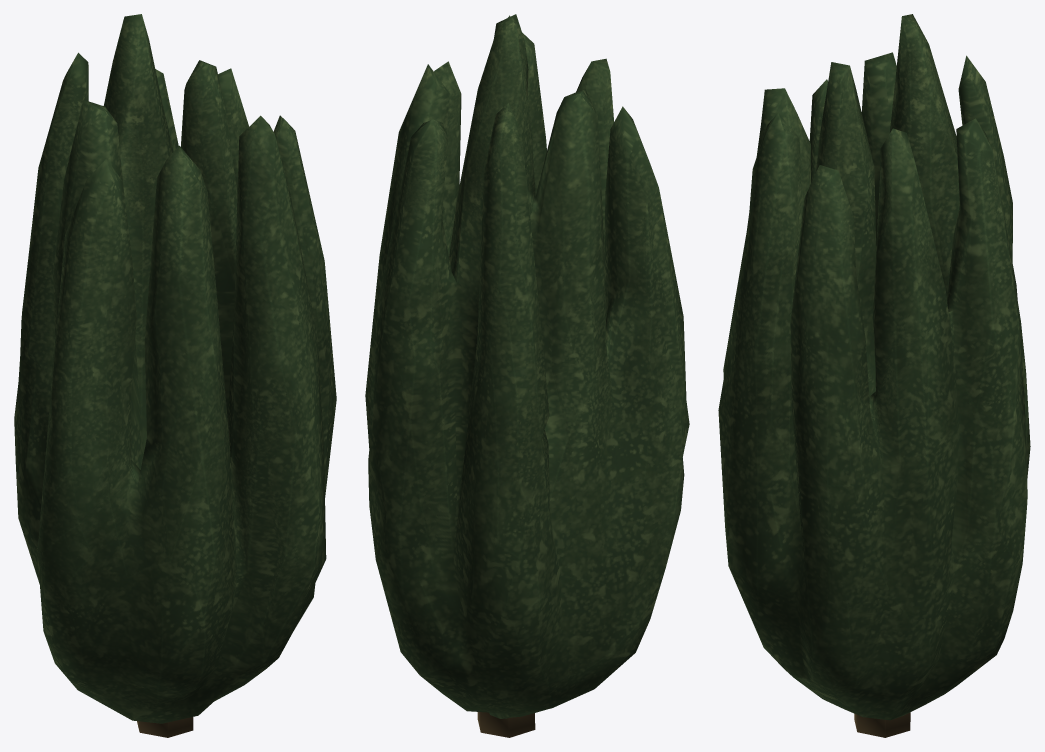
The model's file is tree-yew-GB.fbx.
3 views of the same model, side by side, from view 1: azimuth 30°, elevation 25°; view 2: azimuth 150°, elevation 25°; view 3: azimuth 270°, elevation 25° (orthographic). The views are drawn at different scales.
Visible parts, largest first — view 1: YewTree_Mesh; view 2: YewTree_Mesh; view 3: YewTree_Mesh.
Boxes of the visible parts, x1,y1,x2,y2 form: YewTree_Mesh: (14, 14, 336, 737); YewTree_Mesh: (365, 14, 689, 737); YewTree_Mesh: (718, 14, 1030, 737).
Bounding box in the file's own units: 374 × 868 × 349.
1 material, 1 textured.
